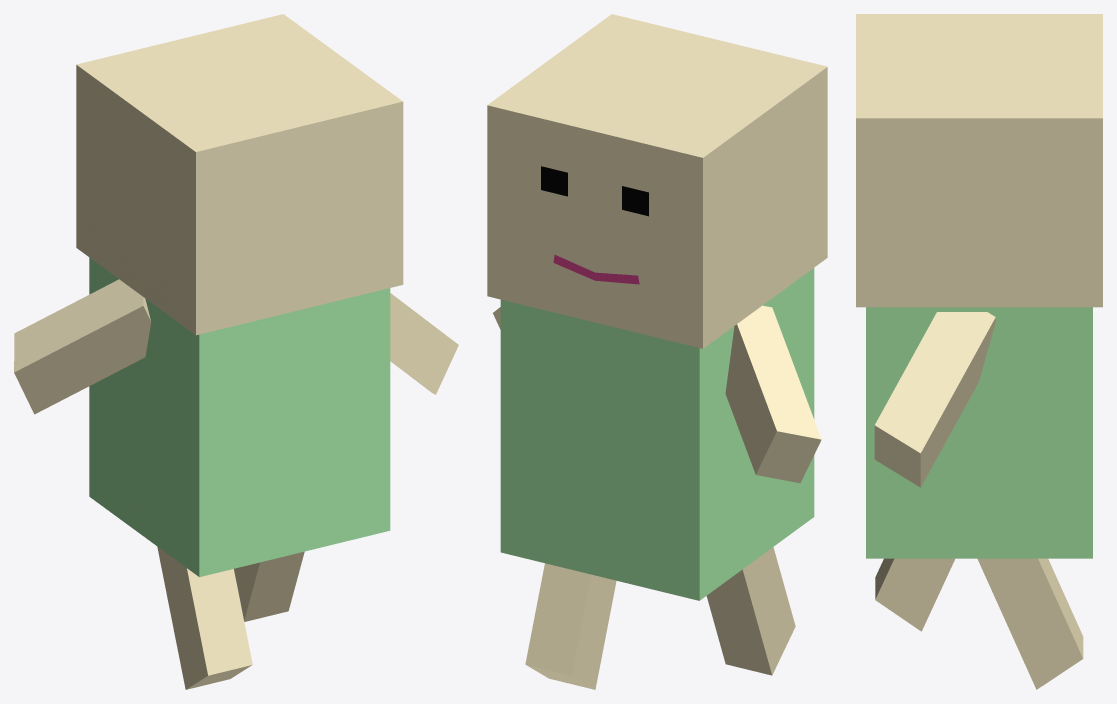
The model's file is newPerson.fbx.
The picture shows the model from 3 angles, left to right: view 1: azimuth 30°, elevation 25°; view 2: azimuth 150°, elevation 25°; view 3: azimuth 270°, elevation 25°; orthographic projection. The views are drawn at different scales.
Visible parts, largest first — view 1: head, body, rightArm, rightLeg, leftArm, leftLeg; view 2: head, body, rightArm, leftLeg, rightLeg; view 3: head, body, leftArm, leftLeg, rightLeg.
Boxes of the visible parts, bbox=[...] form: head: bbox=[76, 14, 403, 335]; body: bbox=[89, 257, 390, 577]; rightArm: bbox=[14, 279, 151, 414]; rightLeg: bbox=[157, 547, 252, 689]; leftArm: bbox=[390, 293, 458, 394]; leftLeg: bbox=[234, 551, 304, 621]; head: bbox=[487, 14, 827, 348]; body: bbox=[500, 268, 814, 600]; rightArm: bbox=[725, 305, 821, 483]; leftLeg: bbox=[525, 563, 616, 689]; rightLeg: bbox=[706, 547, 795, 675]; head: bbox=[856, 14, 1102, 307]; body: bbox=[866, 307, 1092, 558]; leftArm: bbox=[874, 312, 995, 487]; leftLeg: bbox=[977, 558, 1083, 689]; rightLeg: bbox=[875, 558, 954, 631].
Bounding box in the file's own units: 1.48 × 2.12 × 0.8111.
